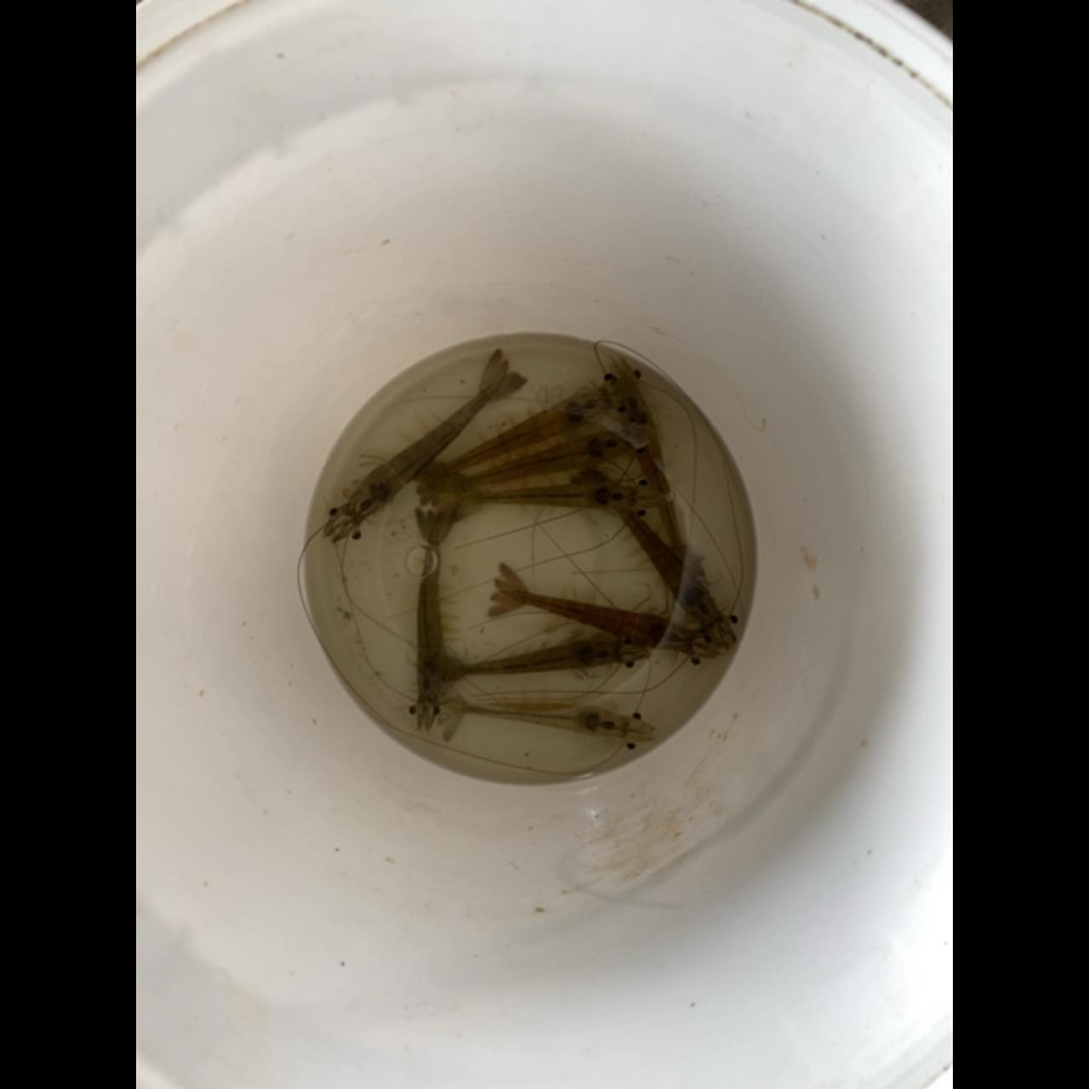round_base: (323, 348, 743, 772)
top_shrimp: (346, 376, 505, 522), (419, 387, 609, 479), (615, 502, 721, 627), (613, 381, 684, 562), (499, 590, 692, 652), (441, 437, 604, 487), (442, 700, 629, 737), (439, 639, 619, 676), (416, 523, 445, 703), (459, 483, 639, 510)
